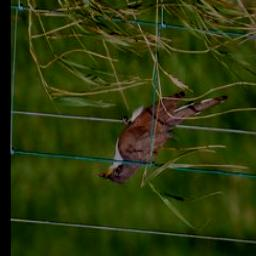Cuckoo: (97, 81, 230, 189)
